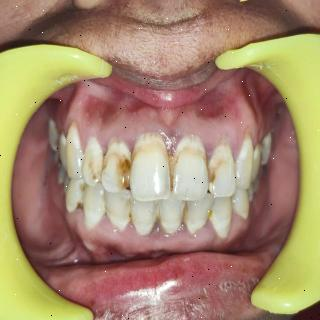Gum Swelling: (63, 102, 260, 167), (67, 210, 249, 256)
calculus: (152, 201, 167, 231), (100, 197, 113, 225)
cavities: (71, 193, 86, 218)
plaque: (122, 198, 138, 225)
stains: (179, 198, 193, 226), (204, 204, 217, 226)
